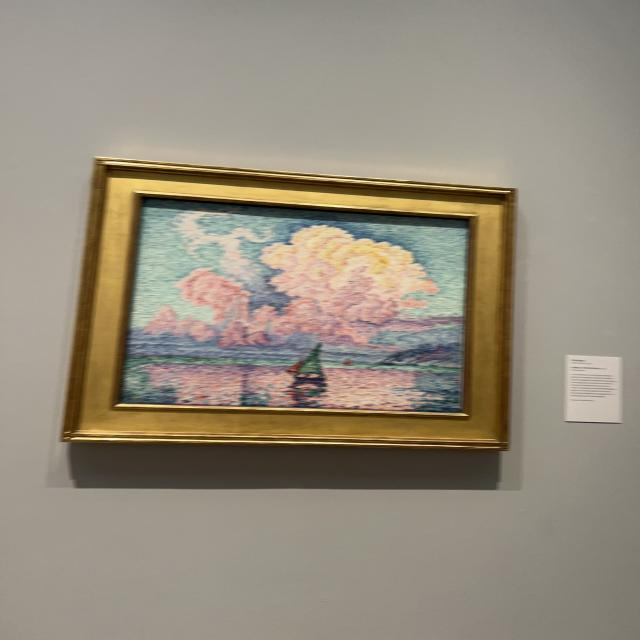sunrise: (121, 206, 466, 411)
